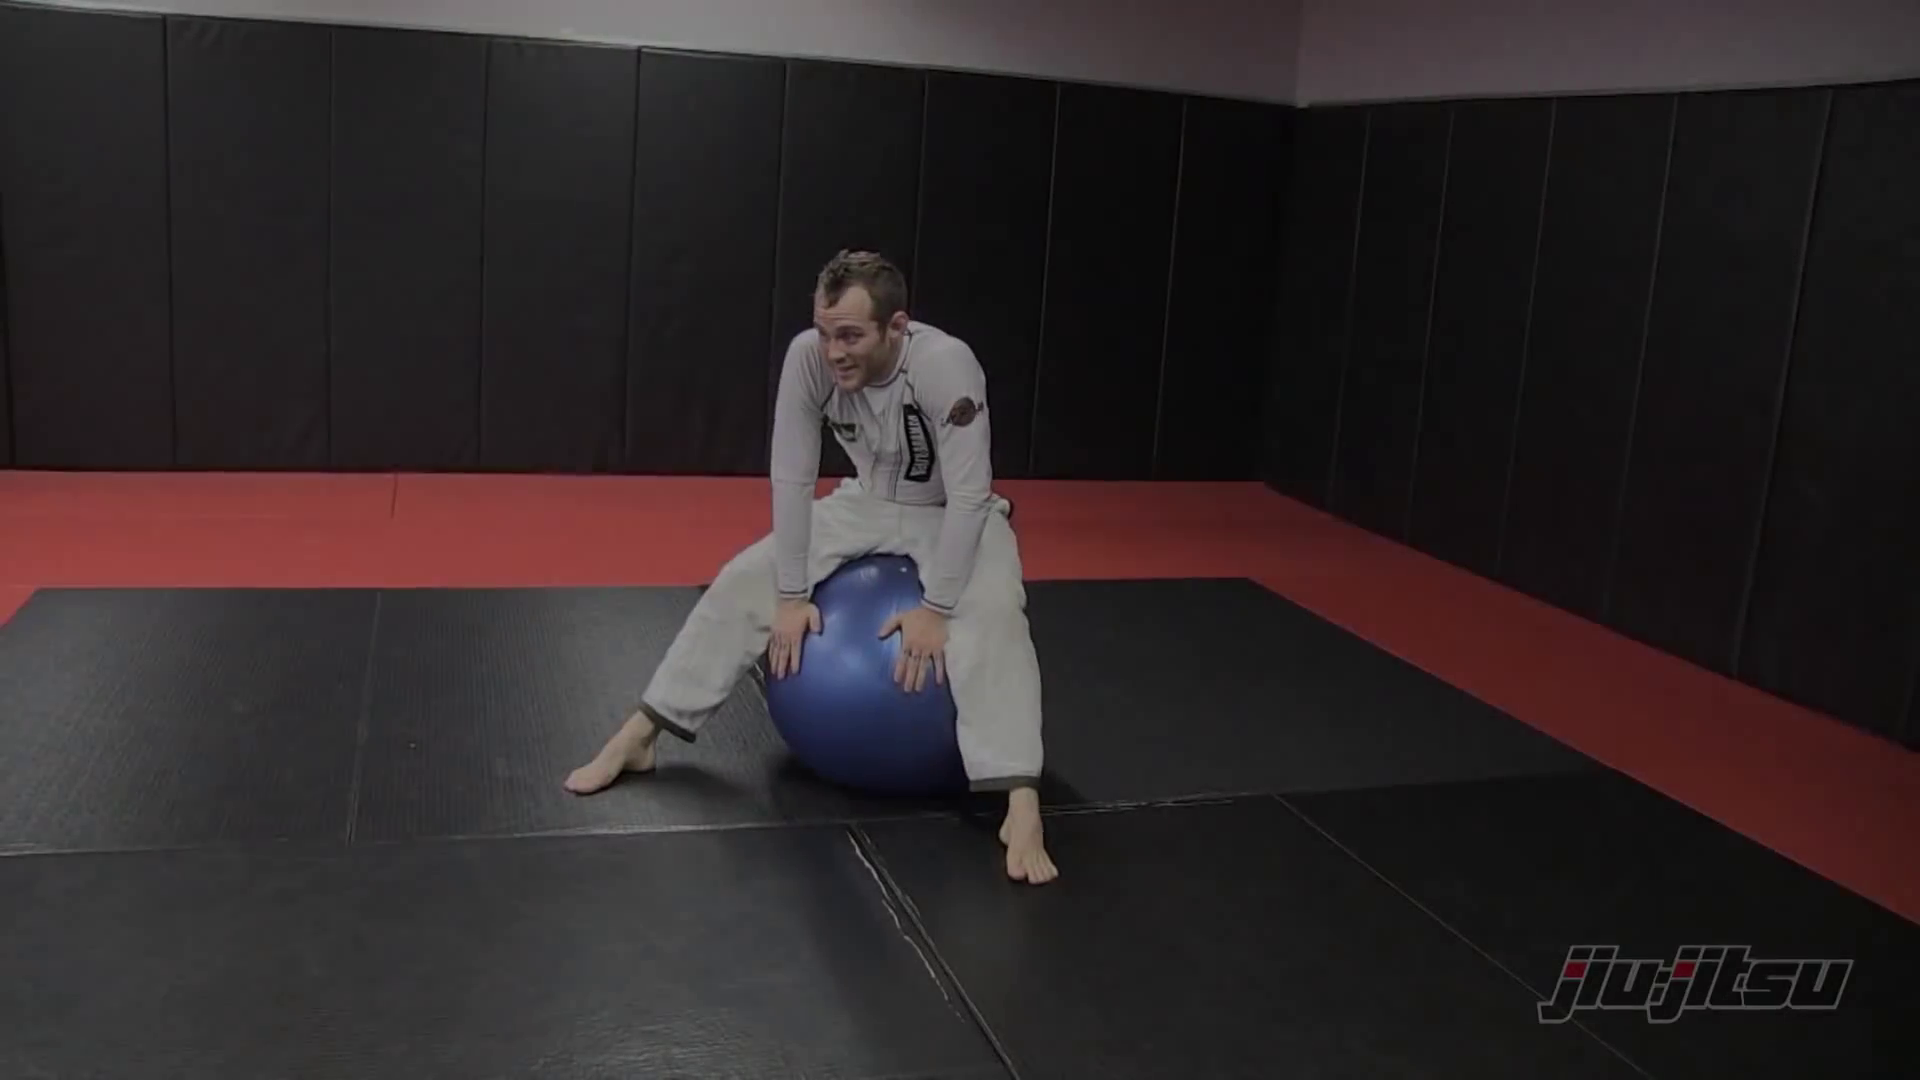yogaball: (746, 546, 1019, 814)
